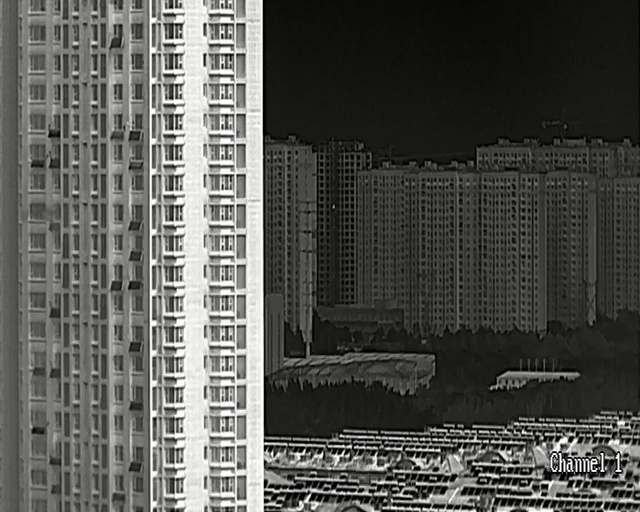uav: (26, 208, 49, 223)
